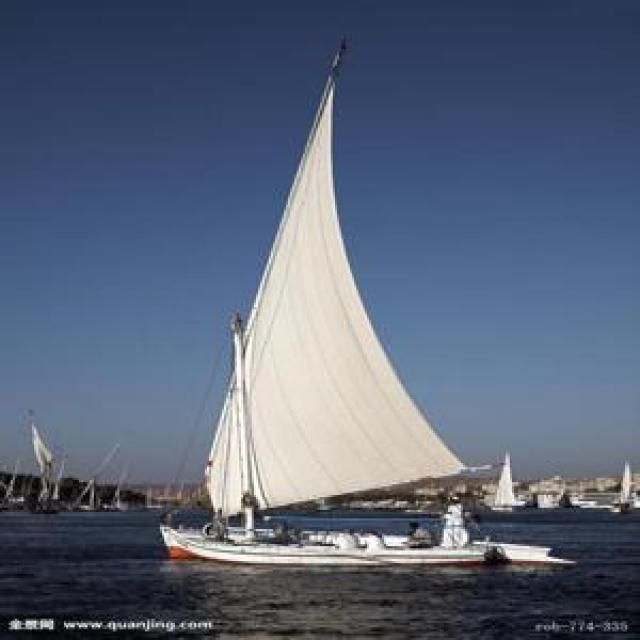sailboat: (155, 29, 521, 562), (480, 442, 520, 511), (607, 459, 636, 514)
